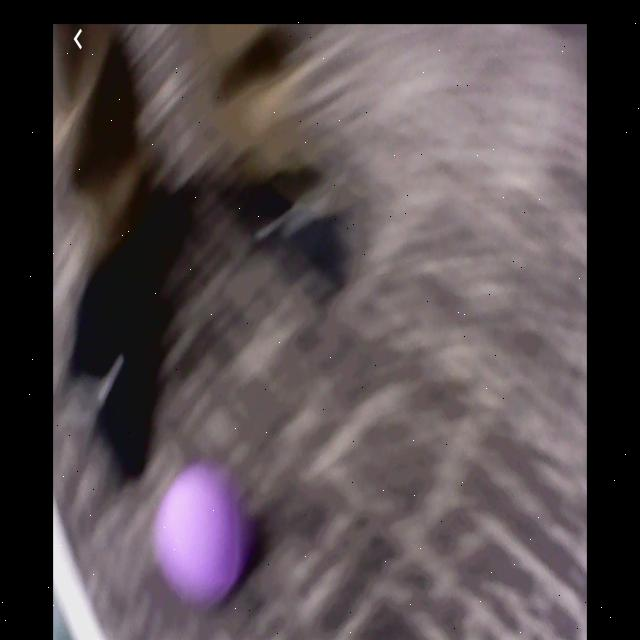ball: (156, 469, 246, 601)
